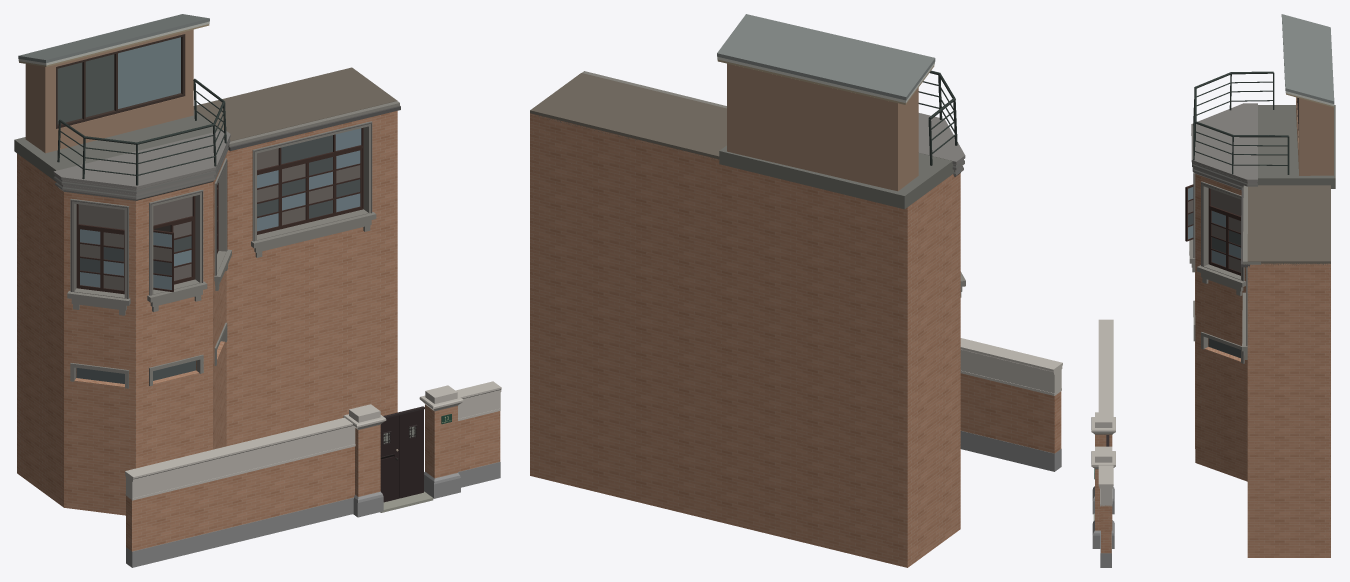
The model's file is jingan-guanghuali-no13-courtyard-front-lod.glb.
The picture shows the model from 3 angles, left to right: view 1: azimuth 30°, elevation 25°; view 2: azimuth 150°, elevation 25°; view 3: azimuth 270°, elevation 25°; orthographic projection. The views are drawn at different scales.
Parts seen in each view (by area): view 1: 光华里13号院门、三面凸窗与露台; view 2: 光华里13号院门、三面凸窗与露台; view 3: 光华里13号院门、三面凸窗与露台.
Boxes of the visible parts, x1=… form: 光华里13号院门、三面凸窗与露台: x1=14, y1=14, x2=501, y2=567; 光华里13号院门、三面凸窗与露台: x1=530, y1=14, x2=1062, y2=567; 光华里13号院门、三面凸窗与露台: x1=1091, y1=14, x2=1335, y2=567.
Size of the model in its own units: 8.81 by 9.93 by 5.54.
Materials: 33 (1 with a texture image).
